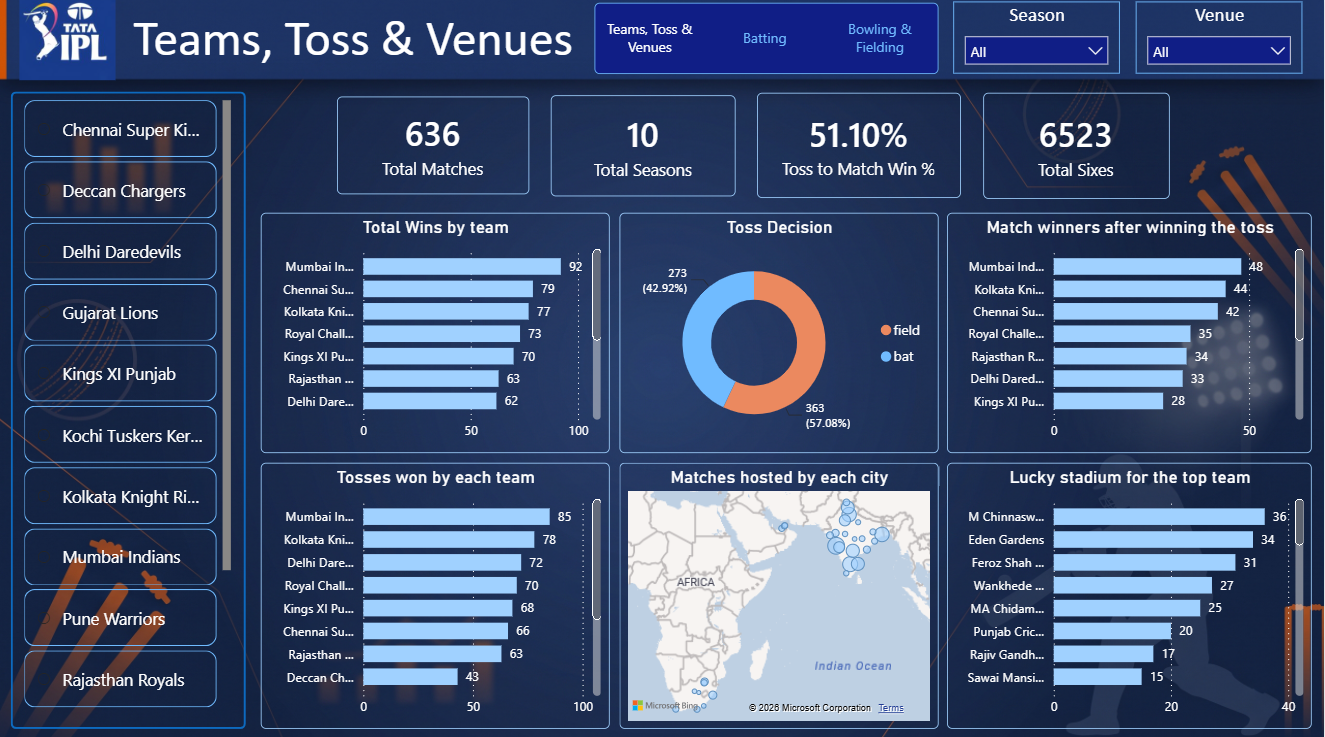

This screenshot's page, from the dashboard's own definition file:
{"tool":"powerbi","page":{"name":"Teams, Toss & Venues","canvas":[1280,720],"ordinal":0},"visuals":[{"type":"clusteredBarChart","fields":{"Category":["Teams.team"],"Y":["Table.Total Wins"]},"box":[254.6,211.1,336.6,231.6],"z":0},{"type":"cardVisual","fields":{"Data":["Table.Total Matches"]},"box":[327.7,99.4,185.8,94.1],"z":1000},{"type":"shape","box":[13.3,94.1,226.8,615.3],"z":2000},{"type":"advancedSlicerVisual","title":"Teams","fields":{"Values":["Teams.team"]},"box":[21.7,97.7,209.9,602],"z":3000},{"type":"image","box":[0,0,136.3,83.2],"z":4000},{"type":"cardVisual","fields":{"Data":["Table.Total Seasons"]},"box":[534.4,97.6,178.6,97.7],"z":5000},{"type":"cardVisual","fields":{"Data":["Table.Toss to Match Win %"]},"box":[743.2,97.7,187,98.9],"z":6000},{"type":"cardVisual","fields":{"Data":["Table.Total Sixes"]},"box":[955.5,97.7,183.4,97.7],"z":7000},{"type":"clusteredBarChart","title":"Tosses won by each team","fields":{"Y":["Count(deliveries.match_id)"],"Category":["matches.toss_winner"]},"box":[254.6,452.4,336.6,257],"z":8000},{"type":"clusteredBarChart","title":"Match winners after winning the toss","fields":{"Y":["Table.Won After Winning Toss"],"Category":["matches.winner"]},"box":[916.9,211.1,352.3,231.6],"z":9000},{"type":"donutChart","title":"Toss Decision","fields":{"Category":["matches.toss_decision"],"Y":["Formulas.Toss Decisions (Selected Team)"]},"box":[600.8,211.1,307.6,231.6],"z":10000},{"type":"map","title":"Matches hosted by each city","fields":{"Size":["CountNonNull(matches.id)"],"Category":["matches.city"]},"box":[600.8,452.4,307.6,257],"z":11000},{"type":"clusteredBarChart","title":"Lucky stadium for the top team","fields":{"Category":["matches.venue"],"Y":["Table.Won After Winning Toss"]},"box":[916.9,452.4,352.3,257],"z":12000},{"type":"textbox","box":[126.7,8.4,526,74.8],"z":13000},{"type":"slicer","title":"Season","fields":{"Values":["matches.season"]},"box":[923.5,6.9,160.5,70],"z":14000},{"type":"slicer","title":"Venue","fields":{"Values":["matches.venue"]},"box":[1099.1,6.9,160.5,70],"z":15000},{"type":"pageNavigator","box":[576.7,8.4,331.8,68.8],"z":16000}]}

Visuals, with their boxes in screenshot pixels (x1, y1, x2, y2), scaled from the page's 1280x720 canvas onto the 1325x737 screenshot:
clusteredBarChart - Teams.team x Table.Total Wins: crop(264, 216, 612, 453)
cardVisual - Table.Total Matches: crop(339, 102, 532, 198)
shape: crop(14, 96, 249, 726)
"Teams" advancedSlicerVisual: crop(22, 100, 240, 716)
image: crop(0, 0, 141, 85)
cardVisual - Table.Total Seasons: crop(553, 100, 738, 200)
cardVisual - Table.Toss to Match Win %: crop(769, 100, 963, 201)
cardVisual - Table.Total Sixes: crop(989, 100, 1179, 200)
"Tosses won by each team" clusteredBarChart: crop(264, 463, 612, 726)
"Match winners after winning the toss" clusteredBarChart: crop(949, 216, 1314, 453)
"Toss Decision" donutChart: crop(622, 216, 940, 453)
"Matches hosted by each city" map: crop(622, 463, 940, 726)
"Lucky stadium for the top team" clusteredBarChart: crop(949, 463, 1314, 726)
textbox: crop(131, 9, 676, 85)
"Season" slicer: crop(956, 7, 1122, 79)
"Venue" slicer: crop(1138, 7, 1304, 79)
pageNavigator: crop(597, 9, 940, 79)
